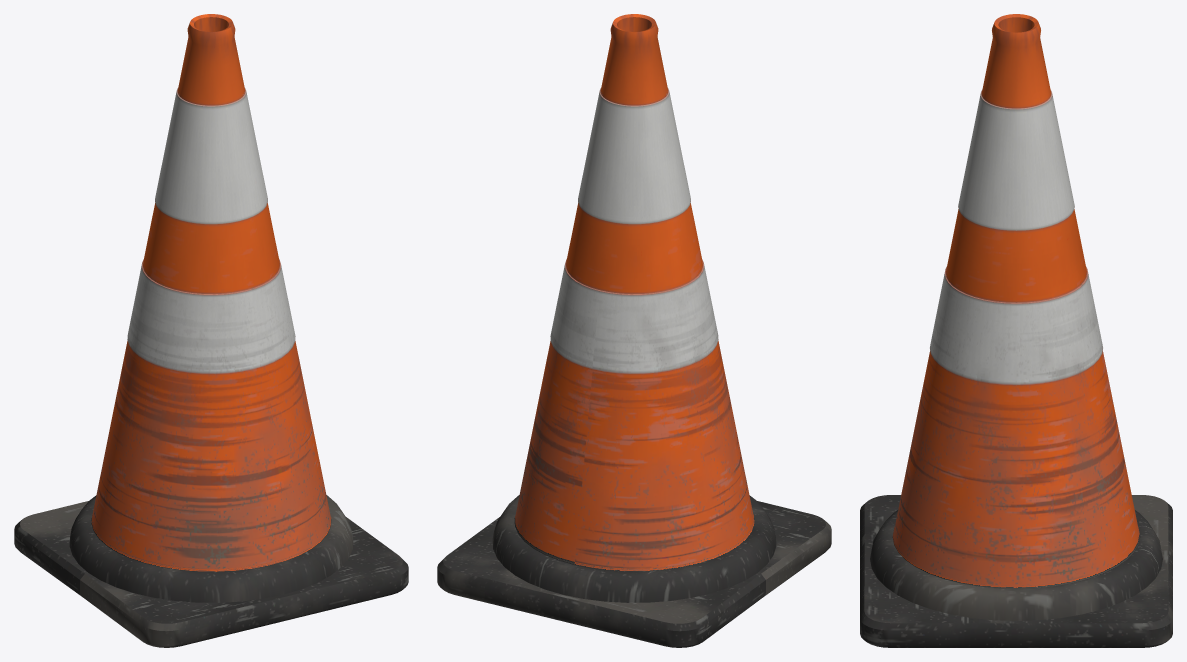
Rendered from traffic-cone.fbx.
3 views of the same model, side by side, from view 1: azimuth 30°, elevation 25°; view 2: azimuth 150°, elevation 25°; view 3: azimuth 270°, elevation 25° (orthographic). The views are drawn at different scales.
Visible parts, largest first — view 1: traffic-cone; view 2: traffic-cone; view 3: traffic-cone.
Boxes of the visible parts, left/top/right/bottom form: traffic-cone: left=14, top=14, right=408, bottom=647; traffic-cone: left=437, top=14, right=831, bottom=647; traffic-cone: left=860, top=14, right=1172, bottom=647.
Size of the model in its own units: 38 by 75 by 38.
Materials: 1 (1 with a texture image).
